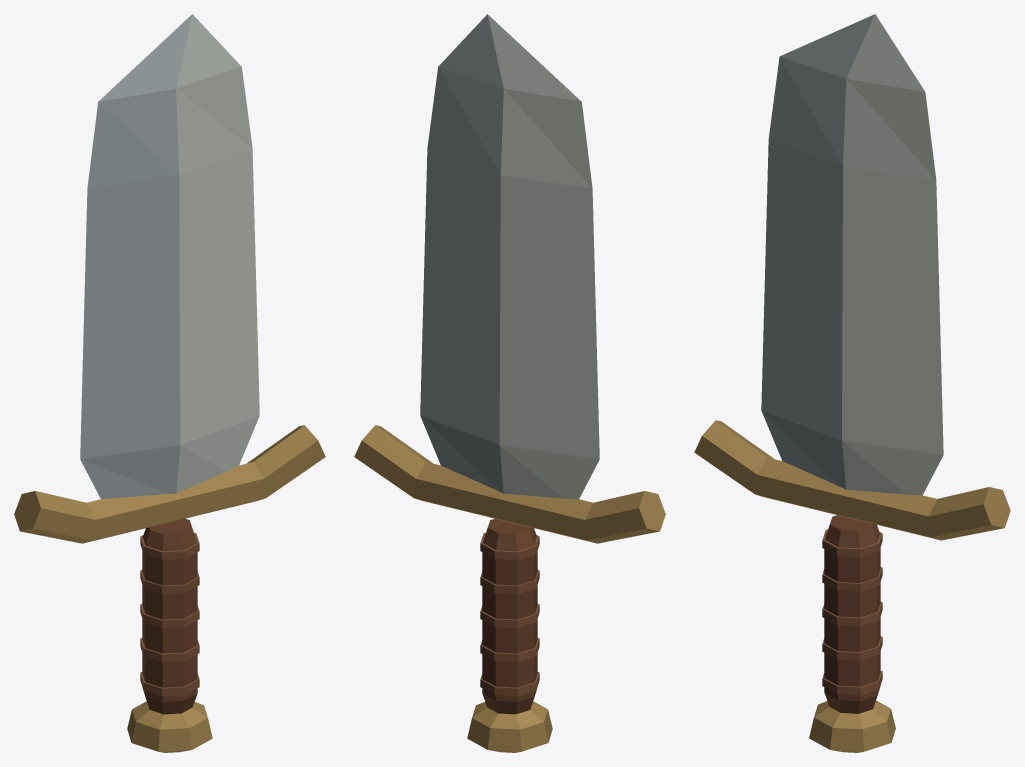
Rendered from weapon_sword_broad.glb.
3 renders of one model, left to right at view 1: azimuth 30°, elevation 25°; view 2: azimuth 150°, elevation 25°; view 3: azimuth 330°, elevation 25°, orthographic.
Parts seen in each view (by area): view 1: weapon_sword_broad; view 2: weapon_sword_broad; view 3: weapon_sword_broad.
Part boxes in pixels (box(x1,y1,x2,y2)): weapon_sword_broad: box(14, 14, 325, 752); weapon_sword_broad: box(354, 14, 665, 752); weapon_sword_broad: box(694, 14, 1010, 752).
Size of the model in its own units: 0.4847 by 1.12 by 0.124.
